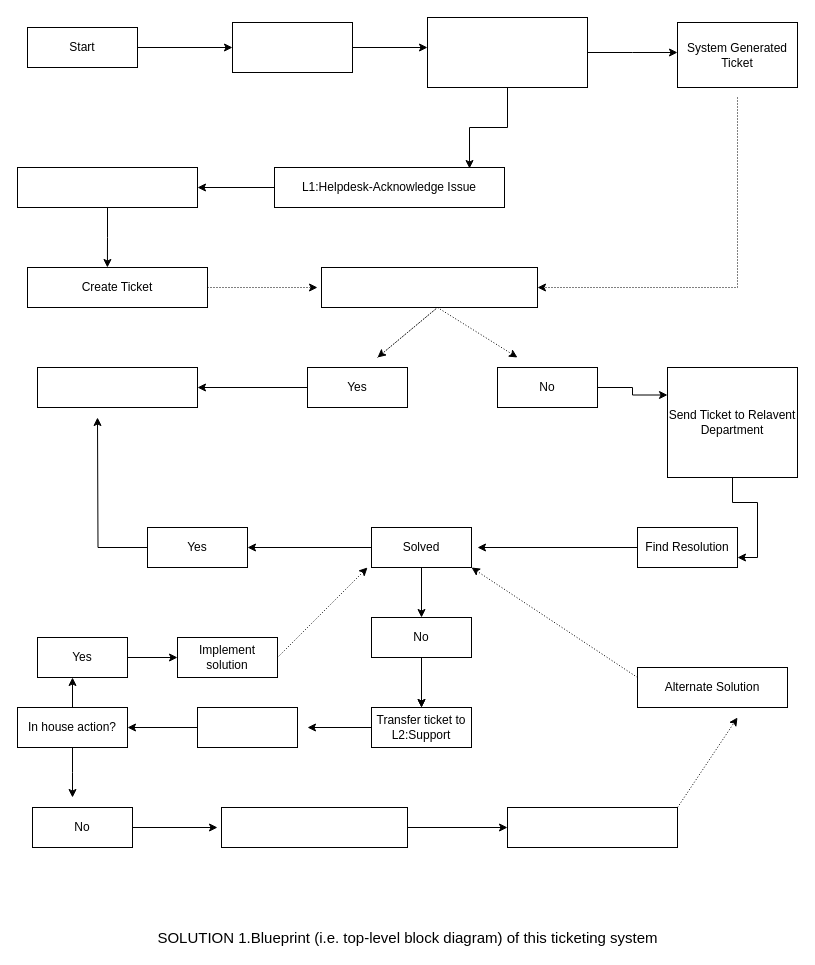
The diagram is 815 pixels wide and 965 high, and some of its shapes have lost their labels. The box of each missing label's shape, as (x1, y1, x2, y2) in pixels:
Advise Customer about delay: (220, 806, 408, 848)
AsK more input from user: (16, 166, 198, 208)
Complete and close ticket: (36, 366, 198, 408)
Determine action: (506, 806, 678, 848)
Evaluate & research problem: (196, 706, 298, 748)
Immesdiate Resolution?: (320, 266, 538, 308)
Multichannnel Ticketing system Email/Phone/chat/social Media/Web Request: (426, 16, 588, 88)
User: (232, 22, 352, 72)
